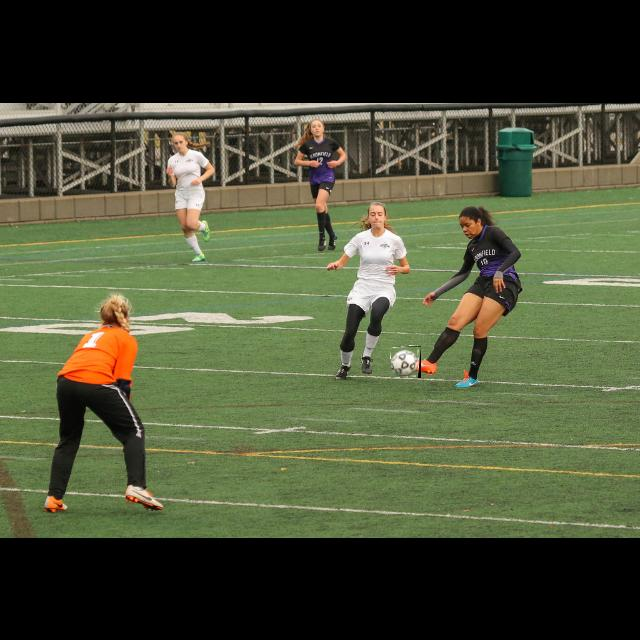Football: (391, 346, 421, 378)
